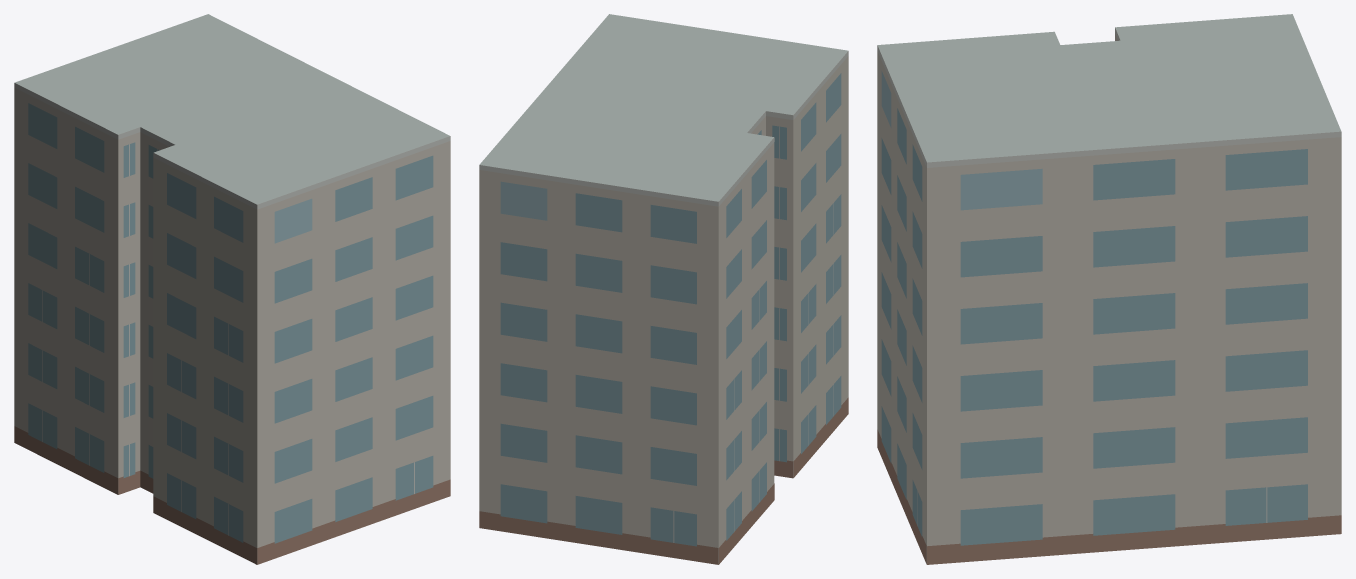
The model's file is survey-upis-32696581.glb.
3 views of the same model, side by side, from view 1: azimuth 30°, elevation 25°; view 2: azimuth 150°, elevation 25°; view 3: azimuth 270°, elevation 25° (orthographic). The views are drawn at different scales.
Visible parts, largest first — view 1: survey-upis-32696581.tmp; view 2: survey-upis-32696581.tmp; view 3: survey-upis-32696581.tmp.
Part boxes in pixels (x1,y1,x2,y2): survey-upis-32696581.tmp: [14, 14, 450, 564]; survey-upis-32696581.tmp: [479, 14, 848, 564]; survey-upis-32696581.tmp: [877, 14, 1341, 564].
Size of the model in its own units: 14.26 by 18 by 18.83.
